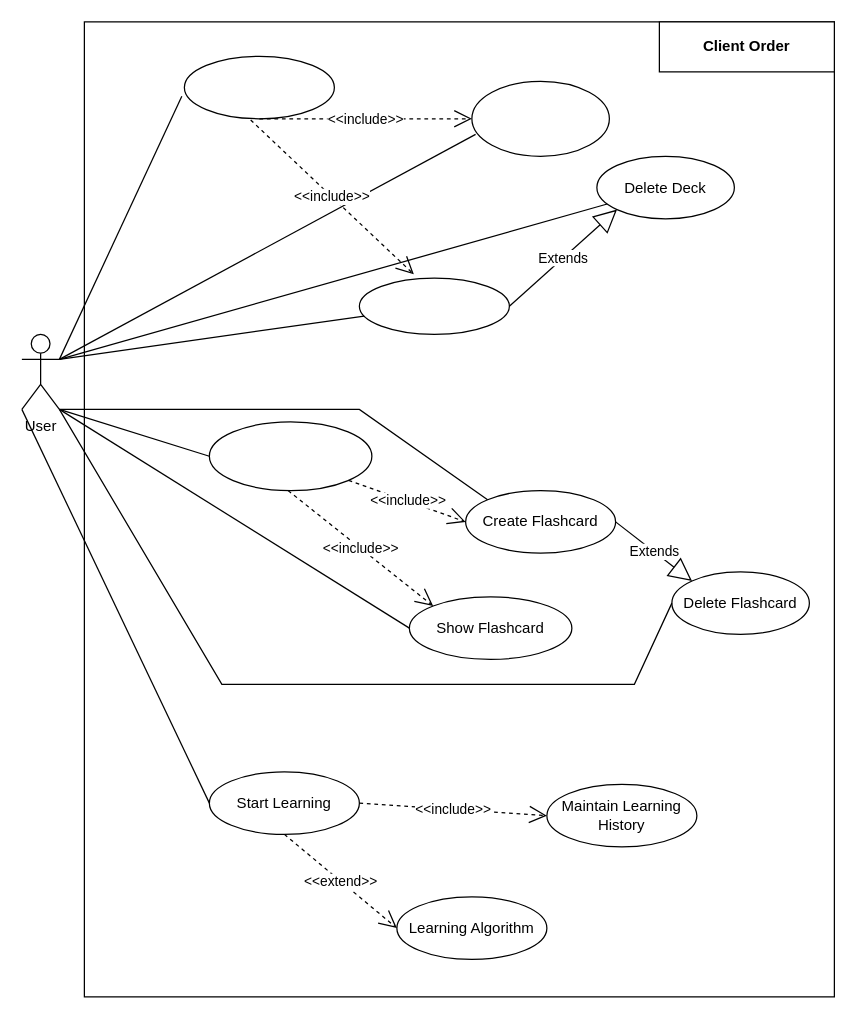
Image size: 856x1019. Some labels were removed from this diagram. Each missing label, with the box of its shape:
Create Deck: (471, 80, 609, 156)
Manage Deck: (183, 55, 334, 119)
Manage FlashCard: (208, 421, 372, 491)
Show Deck: (358, 277, 509, 334)
